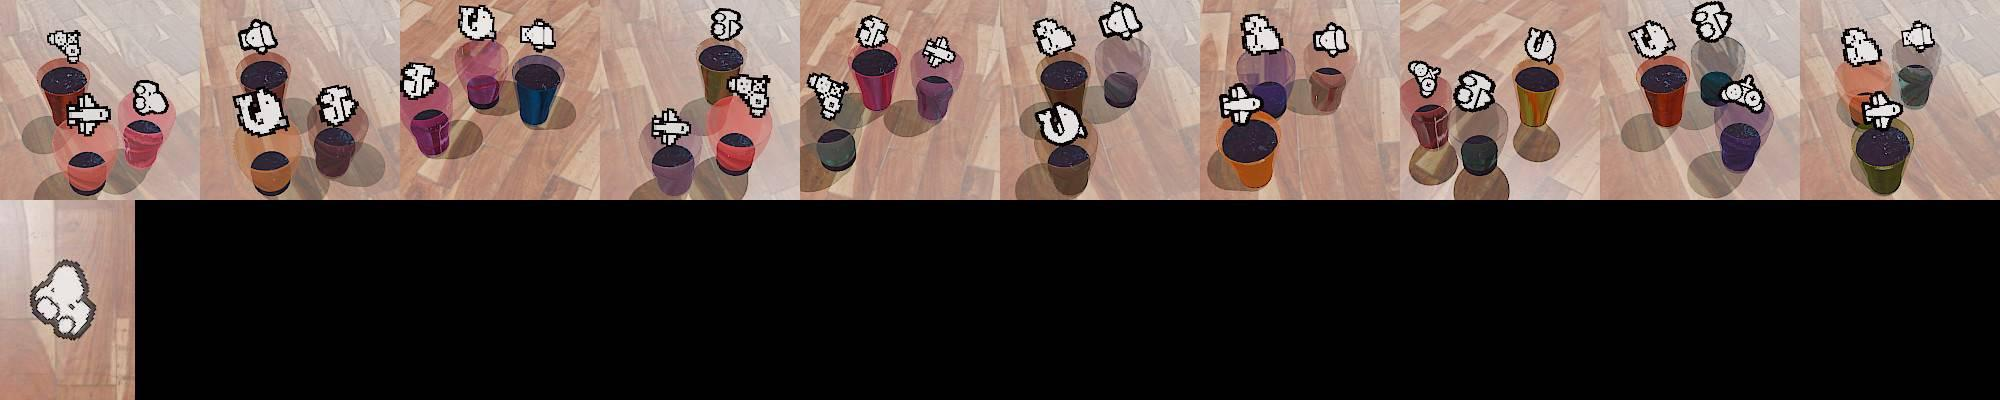icon: (27, 258, 98, 341), (232, 86, 291, 137), (1034, 101, 1085, 145), (726, 72, 773, 118), (1628, 19, 1677, 61), (1716, 73, 1766, 114), (1032, 14, 1077, 58), (806, 73, 848, 120), (1240, 12, 1284, 56), (67, 93, 113, 135), (1453, 69, 1497, 112), (315, 84, 358, 127), (1218, 82, 1263, 123), (1097, 1, 1143, 41), (1689, 1, 1732, 43), (1859, 90, 1904, 129), (1840, 26, 1882, 67), (651, 106, 692, 146), (238, 18, 279, 55), (458, 4, 496, 43), (400, 61, 438, 99), (132, 79, 170, 115), (518, 18, 557, 53), (1313, 20, 1350, 56), (47, 28, 83, 63), (1523, 26, 1557, 63), (1409, 59, 1441, 98), (709, 7, 743, 43), (855, 15, 890, 49), (1902, 19, 1936, 52), (922, 36, 956, 68)
